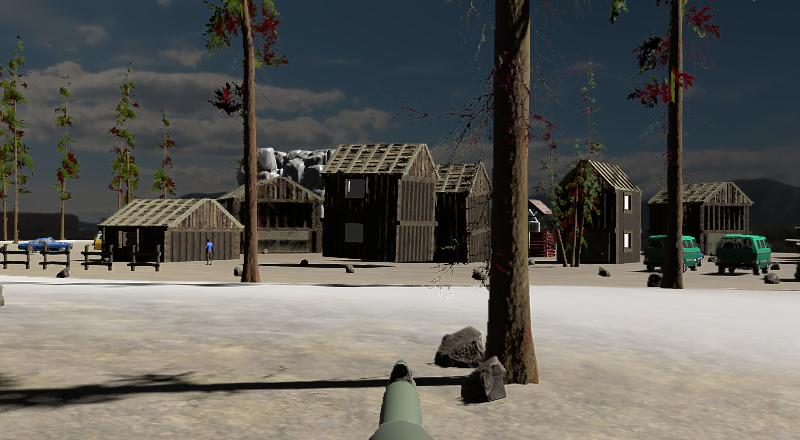House: (323, 144, 438, 262), (102, 198, 241, 262), (434, 162, 492, 263)
Human: (205, 238, 216, 266)
Tank: (785, 234, 800, 253)
car: (715, 234, 771, 276), (716, 234, 771, 275), (644, 234, 702, 271), (17, 235, 72, 258)
